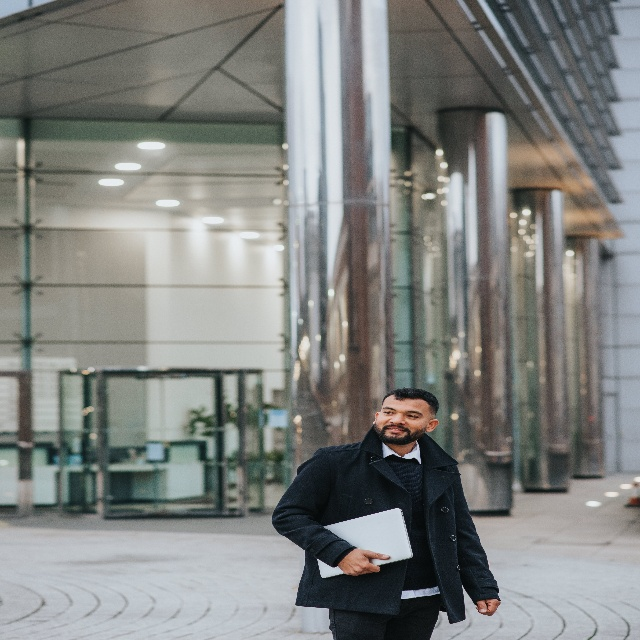Sin_guantes: (338, 545, 391, 576), (475, 600, 502, 614)
